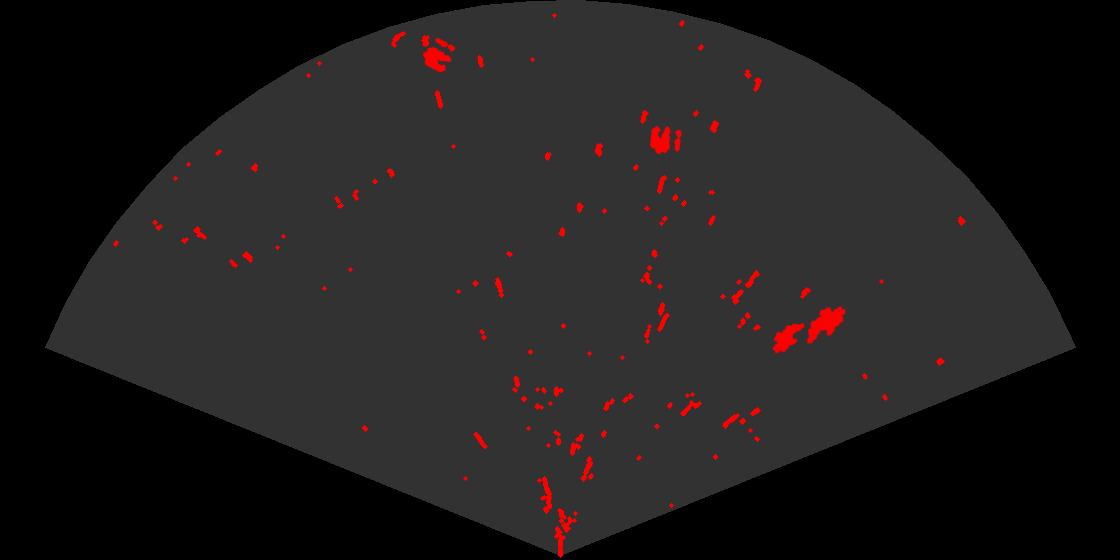AUV: (805, 304, 848, 345), (771, 321, 806, 355)
ball: (421, 36, 457, 74), (648, 124, 683, 156)
